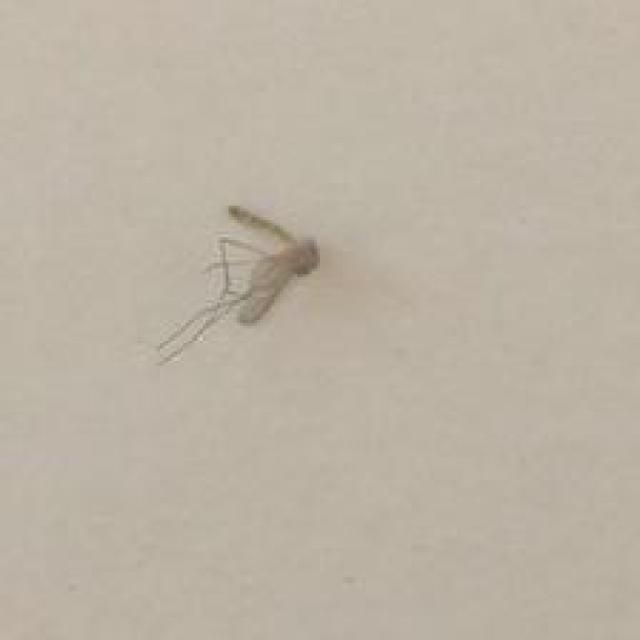Culex: (154, 203, 320, 366)
